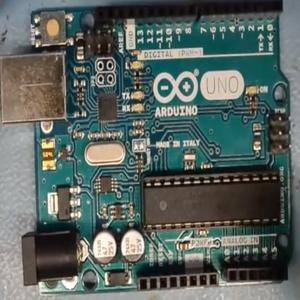duino: (14, 12, 292, 292)
